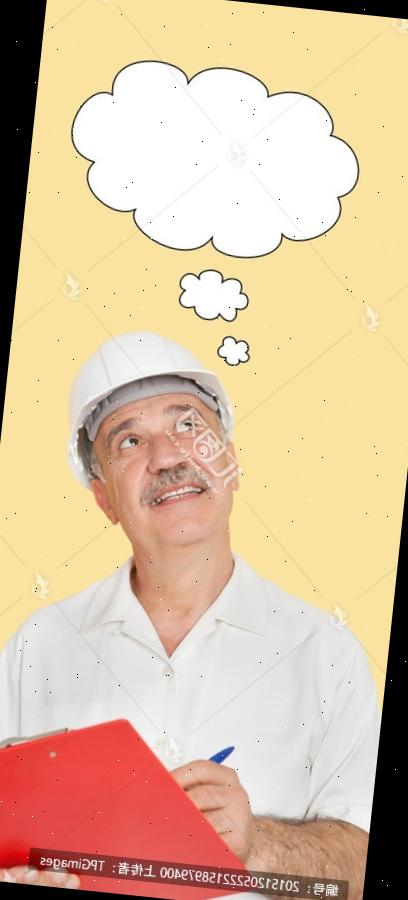helmet: (60, 322, 252, 501)
no_wear: (0, 552, 389, 772)
